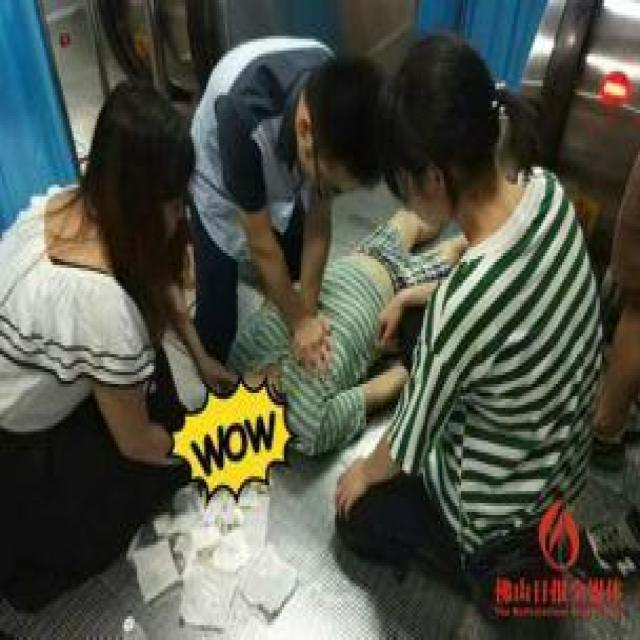fall: (242, 178, 451, 464)
nonfall: (376, 19, 611, 602), (0, 70, 203, 575), (180, 32, 386, 339)
